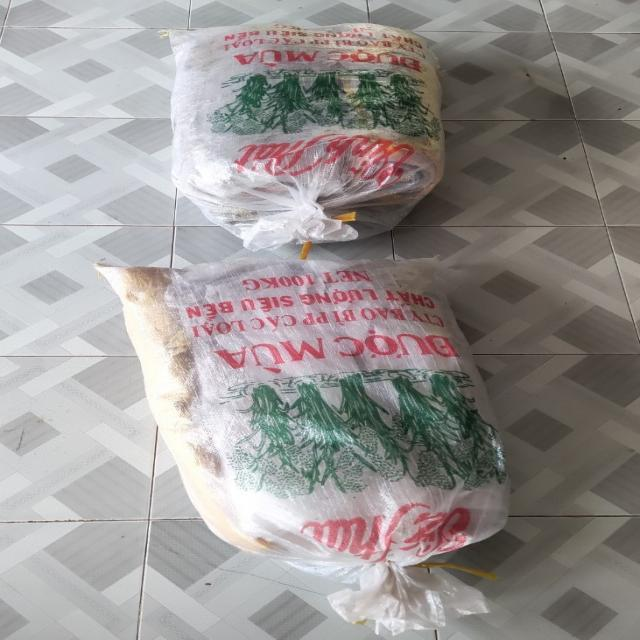gunny_bag: (96, 260, 509, 635), (167, 23, 444, 251)
